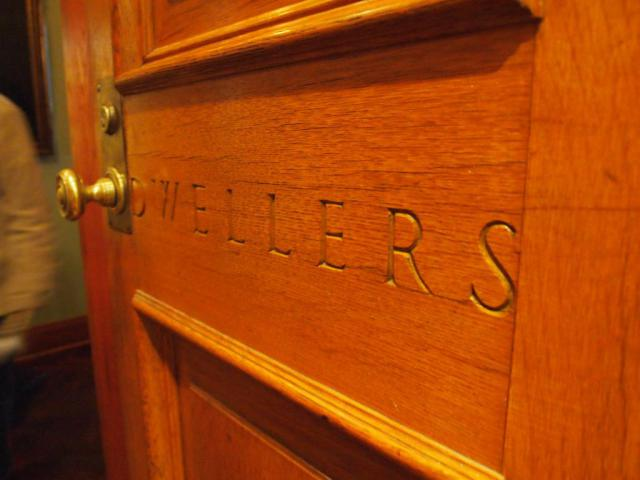Door-handle: (55, 69, 132, 240)
